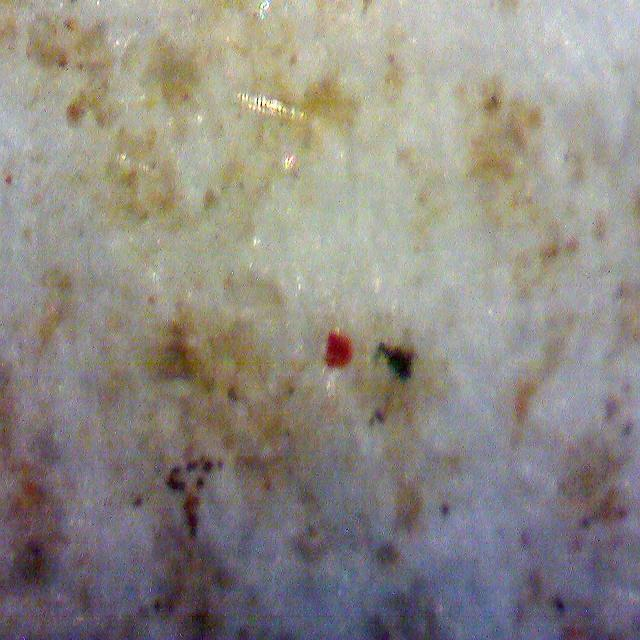microplastic: (324, 330, 356, 373)
